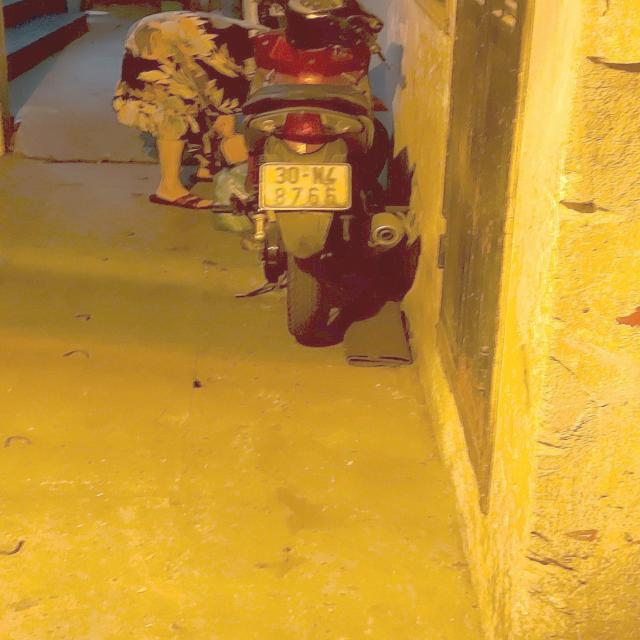license_plate: (259, 164, 352, 210)
